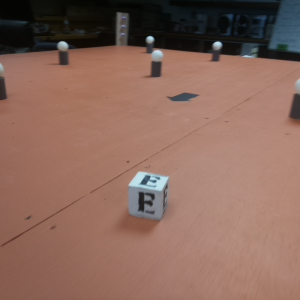blockE: (127, 171, 168, 224)
corner: (115, 11, 128, 47)
obstacle: (289, 77, 300, 121), (149, 50, 164, 77), (58, 41, 69, 66), (210, 40, 221, 62), (1, 60, 7, 99), (145, 35, 154, 53)
start: (167, 92, 199, 107)
